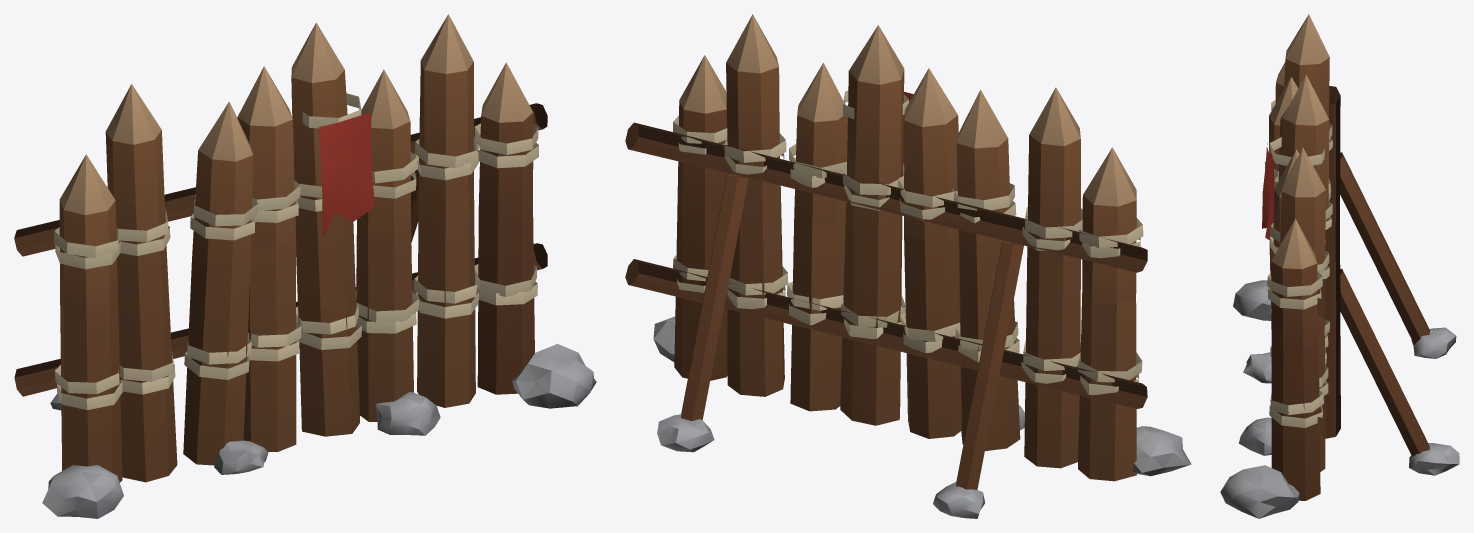
The model's file is muster_palisade.glb.
3 renders of one model, left to right at view 1: azimuth 30°, elevation 25°; view 2: azimuth 150°, elevation 25°; view 3: azimuth 270°, elevation 25°, orthographic. The views are drawn at different scales.
Visible parts, largest first — view 1: MusterPalisadeBody; view 2: MusterPalisadeBody; view 3: MusterPalisadeBody.
Part boxes in pixels (box(x1,y1,x2,y2)): MusterPalisadeBody: box(14, 14, 596, 518); MusterPalisadeBody: box(625, 14, 1191, 518); MusterPalisadeBody: box(1220, 14, 1459, 518).
Size of the model in its own units: 6.43 by 4.54 by 2.87.
